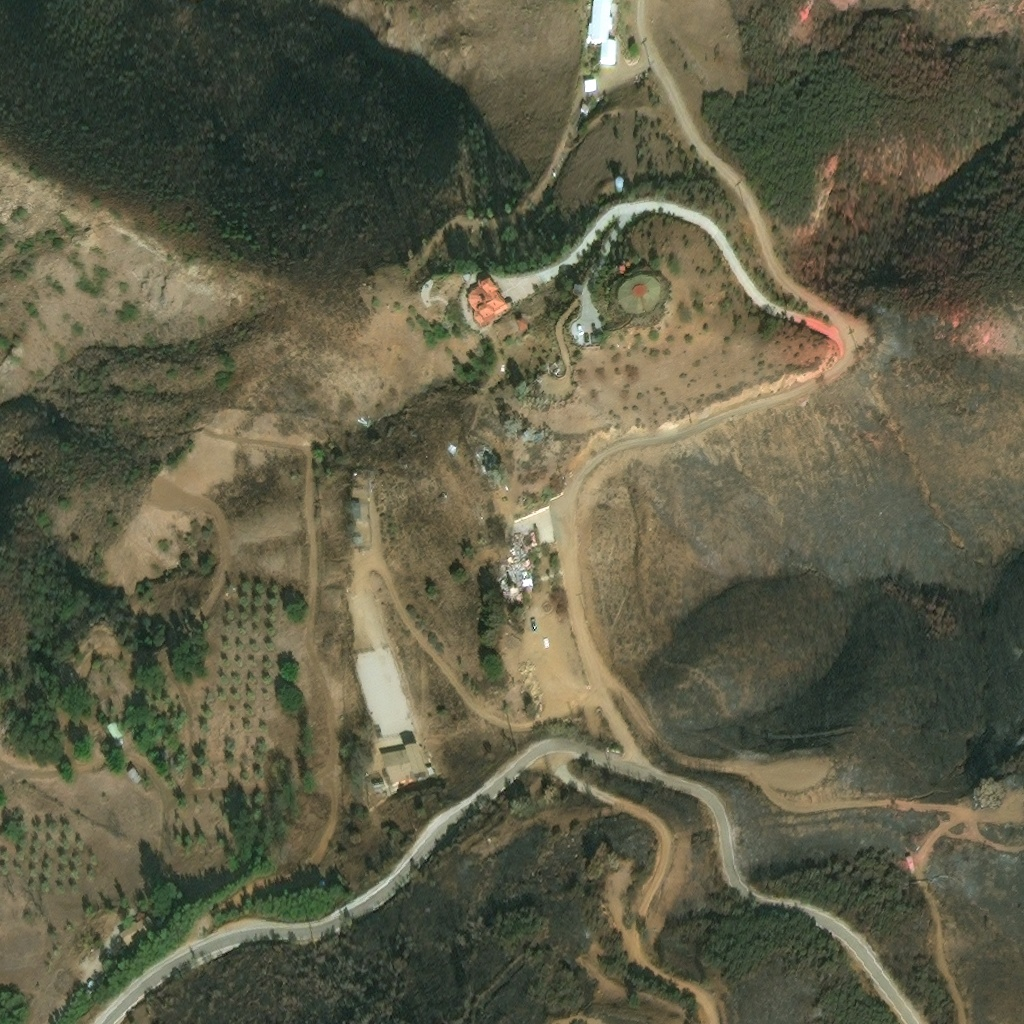0 no-damage: (466, 273, 509, 330), (382, 741, 431, 791), (585, 0, 618, 68), (105, 719, 126, 746), (126, 765, 144, 783), (348, 501, 360, 521), (515, 316, 529, 331), (583, 77, 597, 92), (904, 856, 915, 874), (370, 778, 385, 790), (571, 284, 584, 296), (316, 876, 328, 889), (614, 176, 625, 188), (614, 265, 625, 276), (352, 535, 363, 546), (580, 101, 590, 113), (427, 762, 436, 773), (156, 750, 164, 759)
3 destroyed: (494, 528, 539, 606), (473, 443, 500, 475)
4 un-classified: (87, 978, 96, 988)
